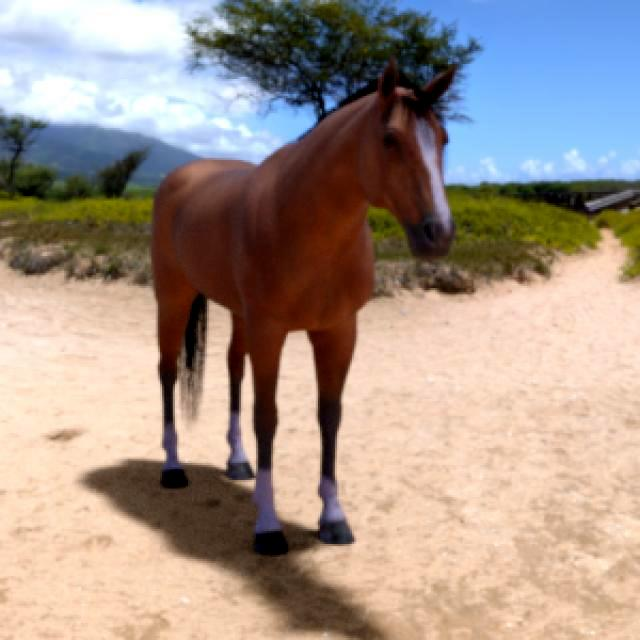horse: (151, 59, 456, 554)
